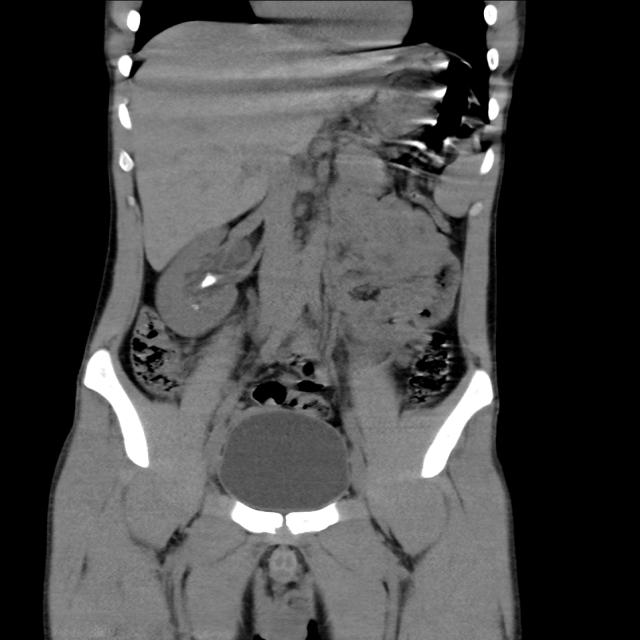kidneystone: (200, 274, 217, 289)
